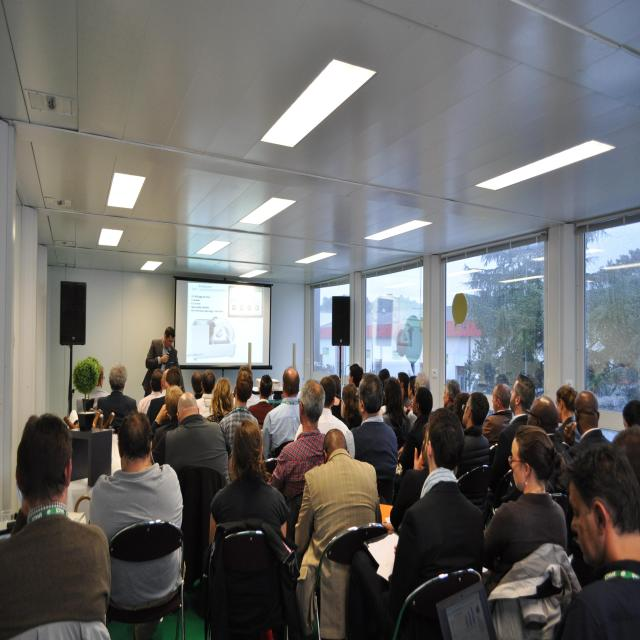body: (0, 413, 114, 640), (384, 407, 486, 640), (294, 426, 383, 640), (90, 409, 184, 611), (559, 434, 640, 640), (484, 423, 568, 599), (207, 416, 292, 554), (268, 378, 328, 544), (149, 390, 234, 484), (347, 370, 398, 506), (491, 374, 536, 517), (294, 376, 356, 458), (376, 367, 470, 417), (455, 391, 493, 510), (260, 362, 300, 460), (560, 390, 613, 460), (141, 325, 187, 399), (219, 370, 259, 450), (95, 362, 138, 434), (398, 386, 433, 470), (526, 396, 570, 460), (150, 384, 184, 453), (146, 366, 185, 426), (472, 360, 544, 390), (613, 399, 640, 477), (482, 382, 513, 444), (588, 362, 640, 395), (554, 384, 582, 444), (76, 366, 111, 413), (247, 373, 275, 431), (232, 364, 260, 411), (206, 377, 234, 423), (137, 368, 164, 414), (341, 382, 363, 430), (196, 369, 216, 419), (328, 374, 346, 421), (413, 421, 428, 470), (155, 368, 170, 398), (348, 363, 364, 391), (191, 370, 204, 400), (207, 315, 218, 349)
